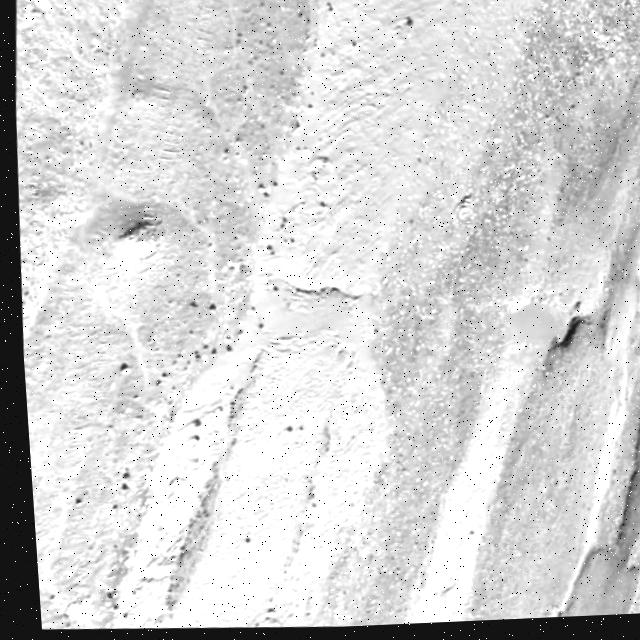Pothole: (471, 287, 600, 360)
